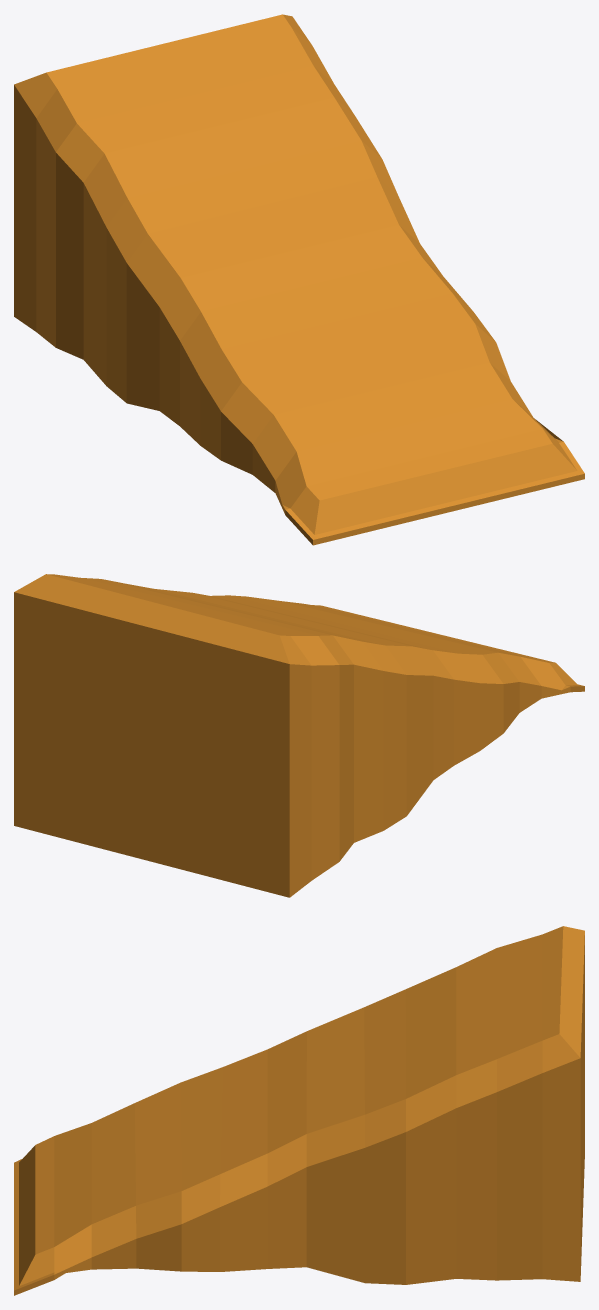
File: Railway_up_02.fbx
3 views of the same model, one above another, from view 1: azimuth 30°, elevation 25°; view 2: azimuth 150°, elevation 25°; view 3: azimuth 270°, elevation 25° (orthographic). The views are drawn at different scales.
Visible parts, largest first — view 1: up_02.001; view 2: up_02.001; view 3: up_02.001.
Part boxes in pixels (left/top/right/bottom): up_02.001: left=14, top=14, right=584, bottom=545; up_02.001: left=14, top=574, right=584, bottom=897; up_02.001: left=14, top=926, right=584, bottom=1295.
Bounding box in the file's own units: 161 × 143 × 294.
